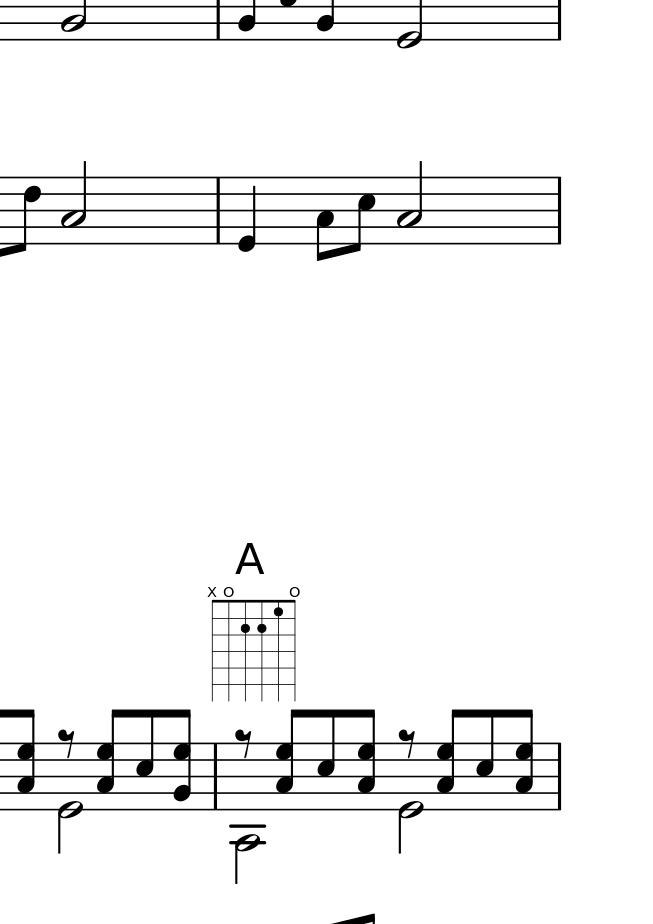2_-4: (232, 741, 261, 885)
2_0: (396, 741, 429, 854), (57, 745, 84, 856)
2_3: (396, 159, 424, 251), (61, 162, 89, 248)
4_0: (238, 174, 260, 253)
8_2_7: (172, 708, 192, 813)
8_3: (314, 174, 336, 262)
8_3_7: (436, 708, 462, 813), (275, 707, 301, 812), (95, 707, 121, 812), (17, 708, 36, 811), (356, 708, 375, 811), (515, 707, 534, 810)
8_5: (315, 707, 340, 813), (134, 707, 158, 815), (349, 174, 378, 258), (476, 707, 497, 814)
8_6: (13, 175, 42, 255)
Fretboard: (203, 584, 305, 704)
Rests8: (55, 725, 76, 763), (396, 723, 417, 761), (236, 727, 255, 760)
Single_barline: (207, 742, 226, 810), (212, 176, 228, 243), (550, 177, 565, 245), (551, 743, 566, 811)
